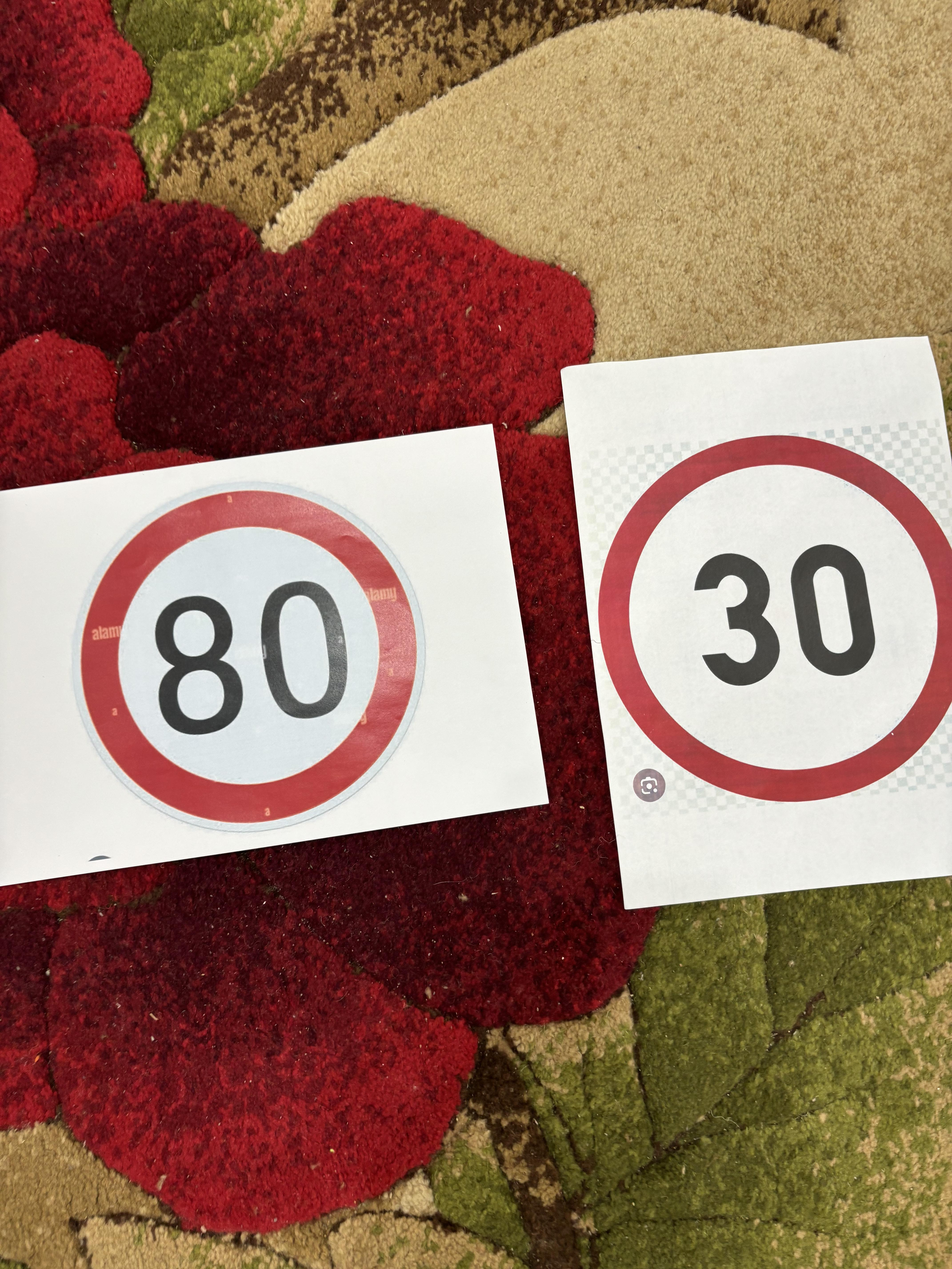30-speed: (594, 429, 952, 810)
80-Speed: (77, 491, 447, 833)
